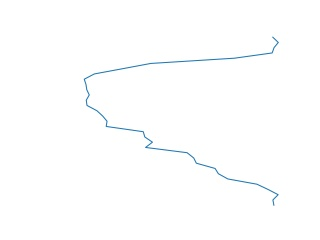mouthBar: (77, 37, 283, 206)
